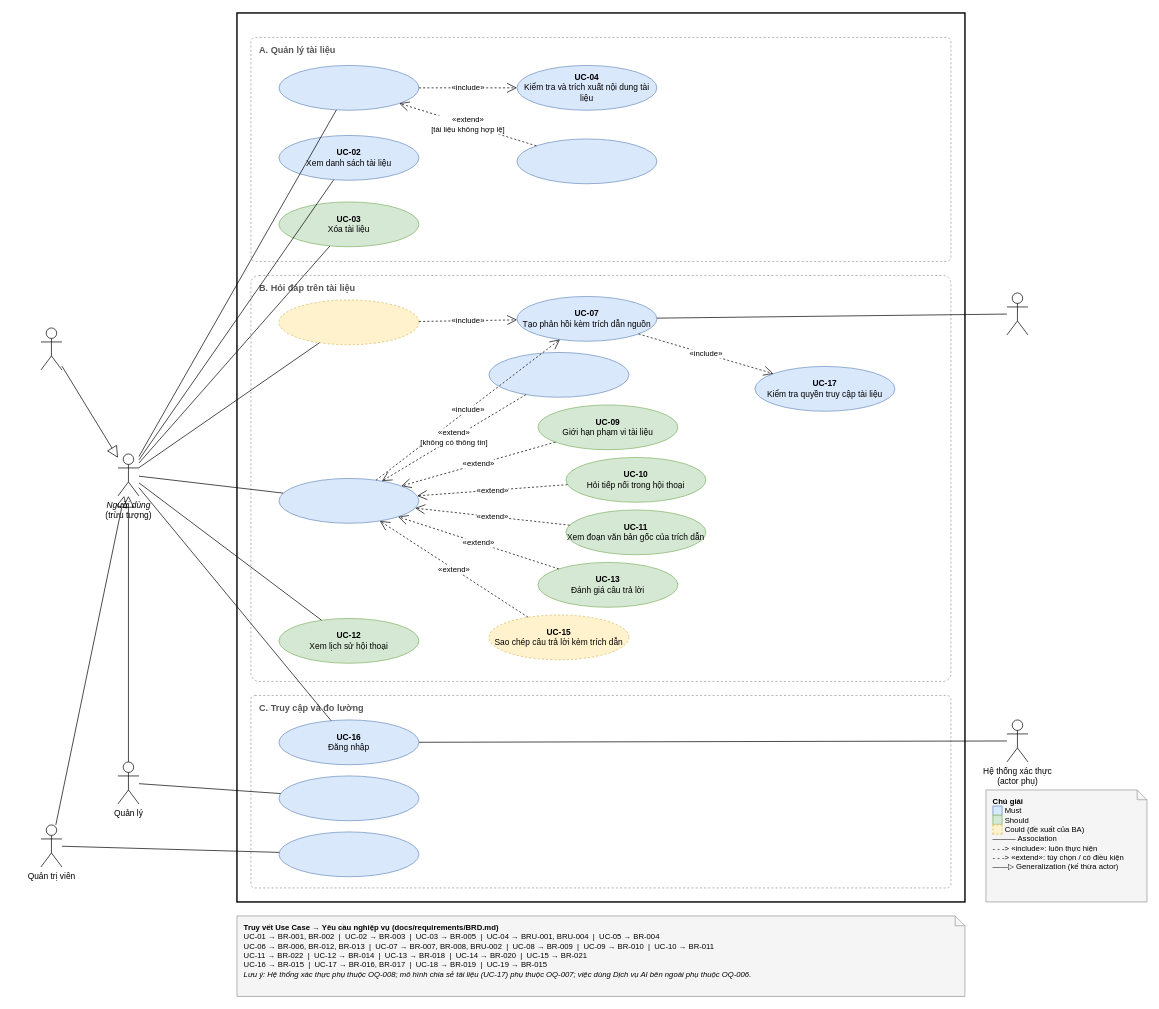
Image size: 1159x1009. Some labels were removed from this diagram. The shapes that lost their labels are listed below. From the top down, each one's box as (x1, y1, x2, y2) in pixels, then its label:
(278, 65, 419, 110): UC-01 Tải lên tài liệu PDF
(516, 138, 657, 184): UC-05 Thông báo tài liệu không dùng được
(278, 299, 419, 345): UC-14 Tóm tắt tài liệu
(1006, 292, 1028, 335): Dịch vụ AI (actor phụ)
(40, 327, 62, 370): Nhân viên phát triển kinh doanh
(488, 352, 629, 397): UC-08 Thông báo không tìm thấy thông tin
(236, 12, 965, 902): Hệ thống "Chat với tài liệu" (MVP)
(278, 478, 419, 523): UC-06 Đặt câu hỏi về tài liệu
(278, 775, 419, 821): UC-18 Xem báo cáo sử dụng
(278, 831, 419, 877): UC-19 Quản lý quyền truy cập người dùng
